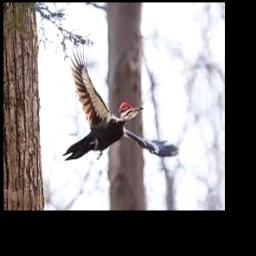Woodpecker: (63, 46, 179, 160)
